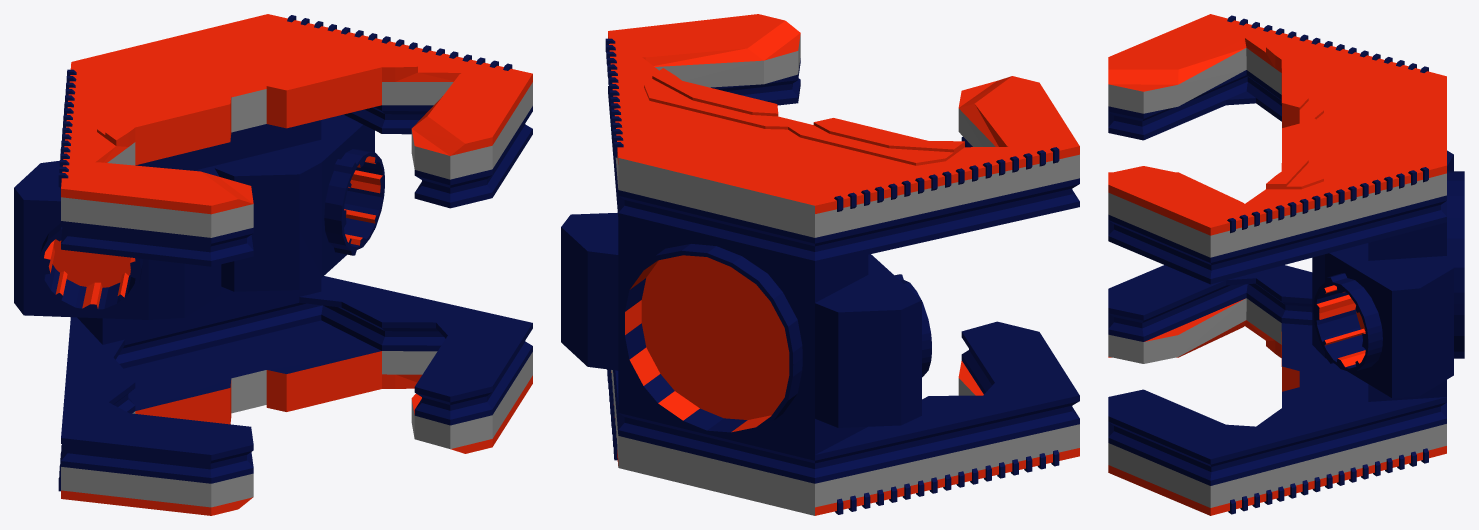
Rendered from ThePlant_LOD01.FBX.
3 views of the same model, side by side, from view 1: azimuth 30°, elevation 25°; view 2: azimuth 150°, elevation 25°; view 3: azimuth 270°, elevation 25° (orthographic). The views are drawn at different scales.
Parts seen in each view (by area): view 1: пшеничные плантации001; view 2: пшеничные плантации001; view 3: пшеничные плантации001.
Boxes of the visible parts, <box> form: пшеничные плантации001: <box>14,14,532,515</box>; пшеничные плантации001: <box>561,14,1079,515</box>; пшеничные плантации001: <box>1108,14,1464,515</box>.
Bounding box in the file's own units: 172 × 121 × 112.
